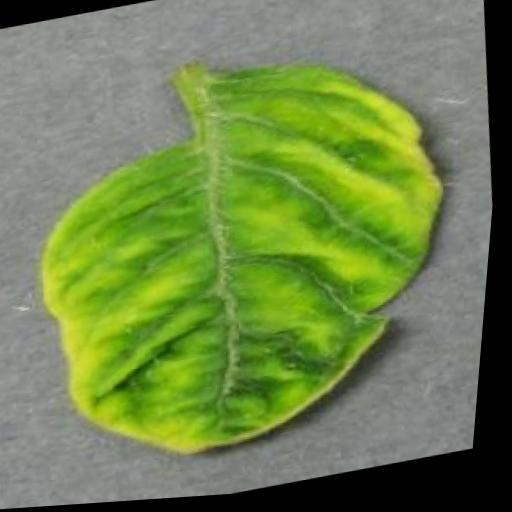Yellow Leaf Curl Virus: (9, 31, 490, 486)
